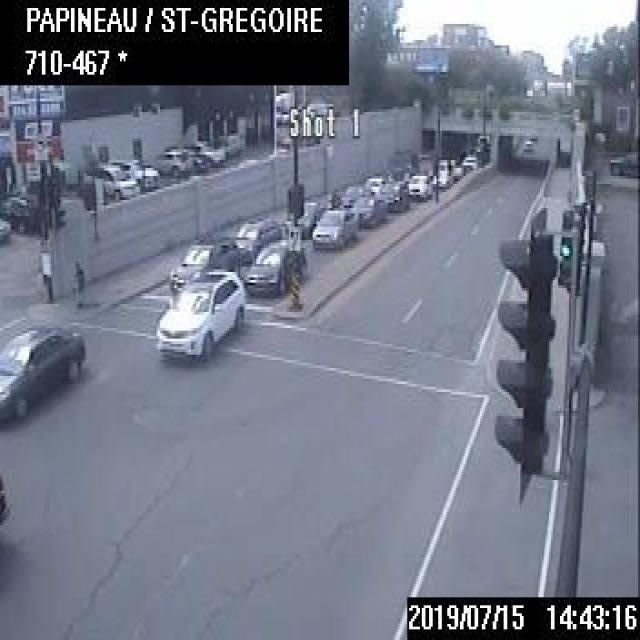pedestrian: (68, 257, 90, 311)
vehicle: (0, 317, 85, 418), (153, 270, 245, 360), (165, 233, 239, 286), (243, 236, 302, 296), (310, 198, 356, 252), (234, 216, 282, 258), (89, 158, 137, 197), (115, 154, 158, 190), (0, 190, 36, 230), (151, 146, 187, 178), (351, 192, 384, 225), (378, 175, 409, 210), (606, 149, 638, 178), (405, 172, 430, 198), (0, 470, 11, 526), (518, 136, 533, 155)
